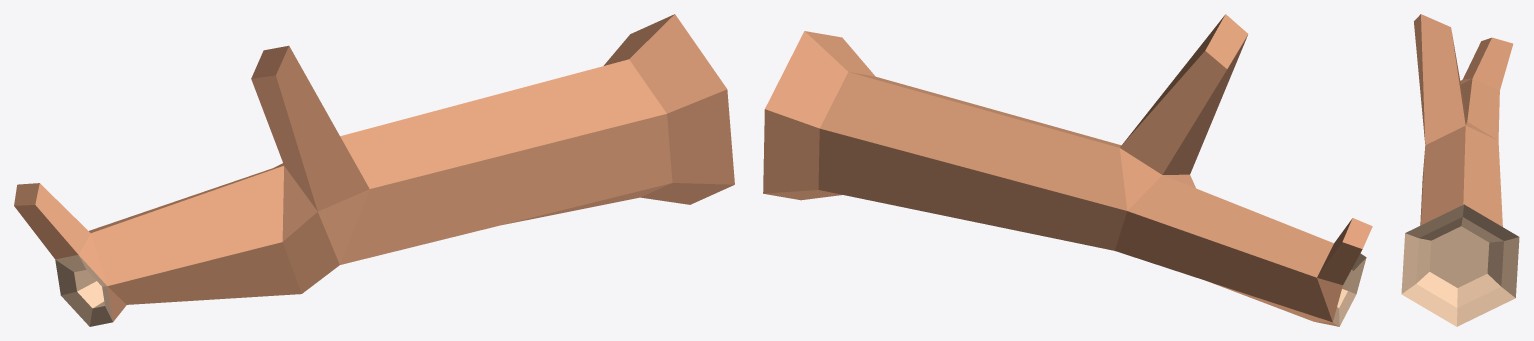
File: driftwoodlog.fbx
3 renders of one model, left to right at view 1: azimuth 30°, elevation 25°; view 2: azimuth 150°, elevation 25°; view 3: azimuth 270°, elevation 25°, orthographic. The views are drawn at different scales.
Visible parts, largest first — view 1: log; view 2: log; view 3: log.
Boxes of the visible parts, x1=… form: log: x1=14, y1=14, x2=734, y2=326; log: x1=763, y1=14, x2=1372, y2=326; log: x1=1401, y1=14, x2=1519, y2=326.
Size of the model in its own units: 5.91 by 2.5 by 1.49.
